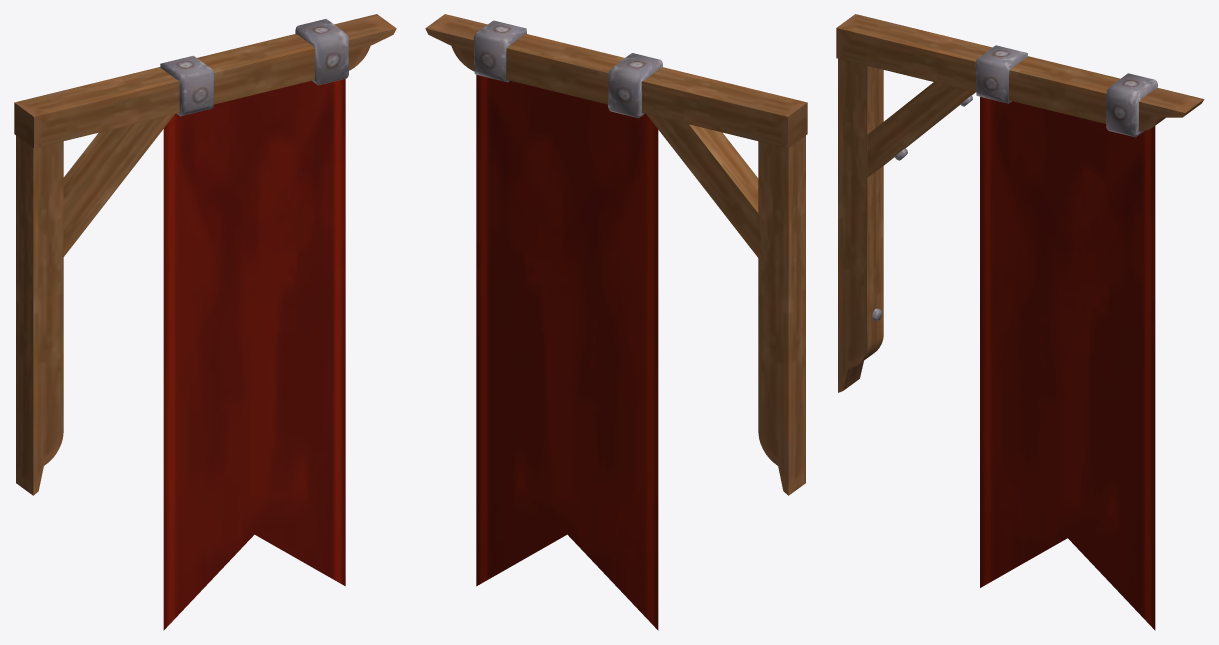
Rendered from Banner_1.glb.
3 renders of one model, left to right at view 1: azimuth 30°, elevation 25°; view 2: azimuth 150°, elevation 25°; view 3: azimuth 330°, elevation 25°, orthographic. The views are drawn at different scales.
Parts seen in each view (by area): view 1: Banner_1; view 2: Banner_1; view 3: Banner_1.
Part boxes in pixels (x1,y1,x2,y2): Banner_1: (14, 14, 396, 630); Banner_1: (425, 14, 807, 630); Banner_1: (836, 14, 1204, 630).
Size of the model in its own units: 1.61 by 2.39 by 0.1907.
3 materials, 3 textured.
